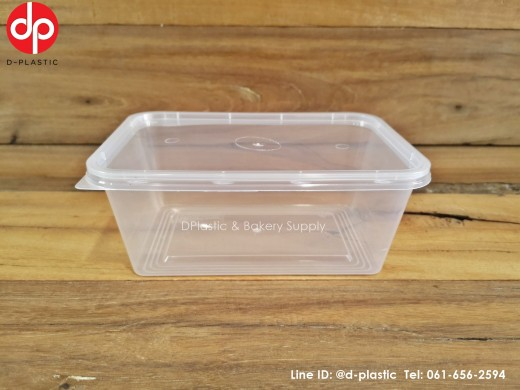PlasticBox: (69, 105, 435, 282)
